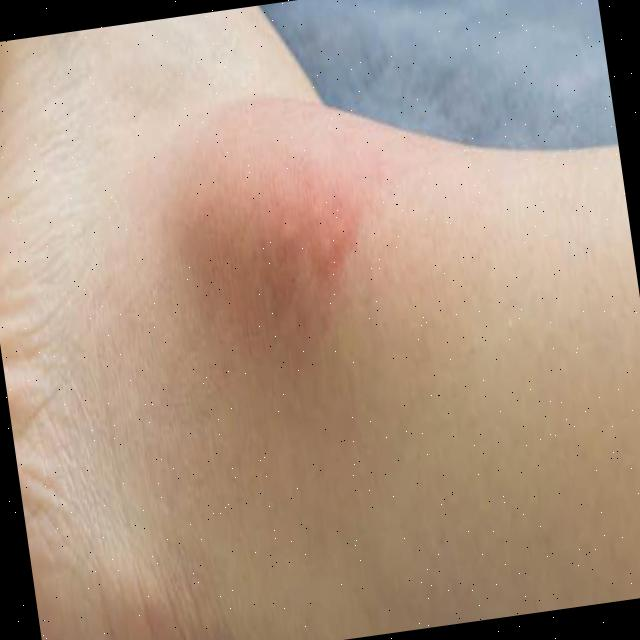sinek: (264, 160, 381, 303)
